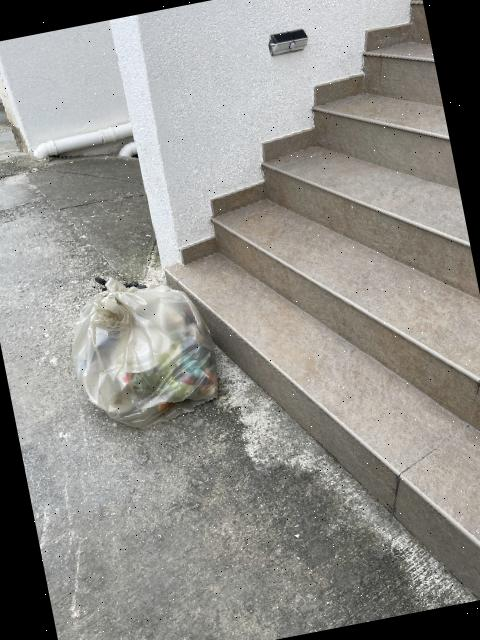Organic -White-: (72, 277, 217, 428)
